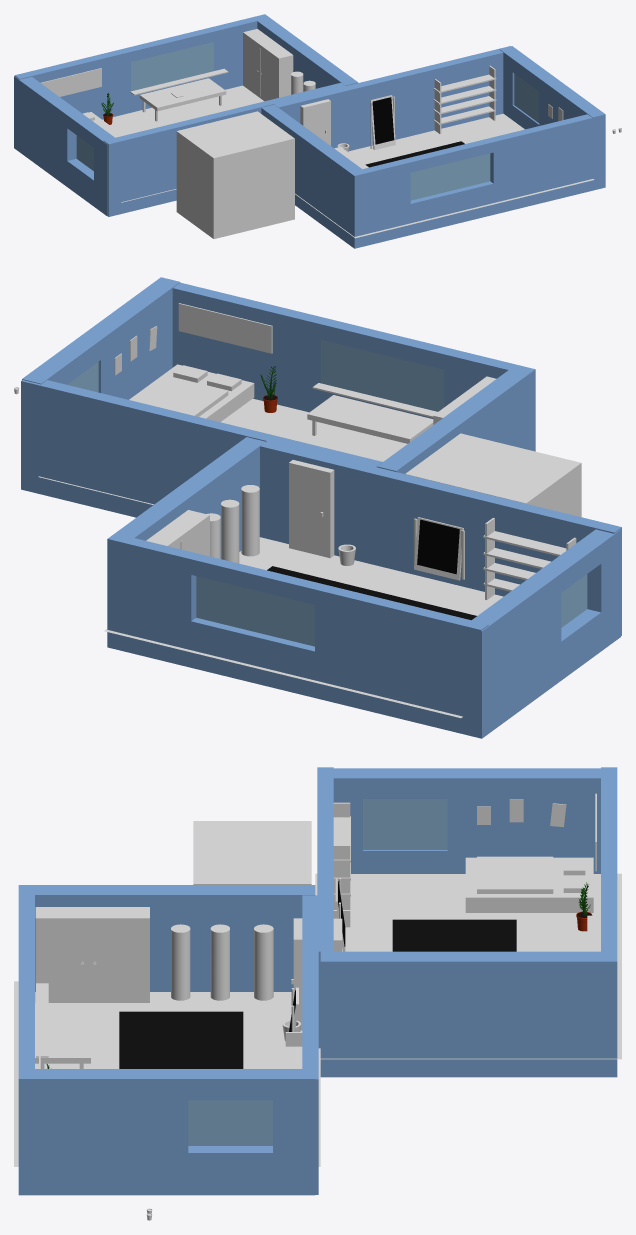
File: Room Obj.FBX
3 views of the same model, one above another, from view 1: azimuth 30°, elevation 25°; view 2: azimuth 150°, elevation 25°; view 3: azimuth 270°, elevation 25° (orthographic). The views are drawn at different scales.
Visible parts, largest first — view 1: Box002, Box068, Box004, Box036, Box035, Box001, Box037, Box003, Plane001, Box045, Plane002, Box044 (+16 smaller); view 2: Box035, Box004, Box037, Box036, Box002, Box003, Box068, Box034, Plane002, Box001, Box011, Box044 (+15 smaller); view 3: Box034, Box003, Box036, Box001, Plane002, Box012, Plane001, Box068, Box019, Box043, Box052, Box010 (+14 smaller).
Part boxes in pixels (x1=…): Box002: x1=363, y1=114, x2=604, y2=245; Box068: x1=176, y1=111, x2=294, y2=238; Box004: x1=273, y1=46, x2=510, y2=151; Box036: x1=14, y1=76, x2=114, y2=216; Box035: x1=14, y1=17, x2=257, y2=119; Box001: x1=261, y1=104, x2=367, y2=248; Box037: x1=103, y1=83, x2=345, y2=216; Box003: x1=499, y1=46, x2=605, y2=187; Plane001: x1=295, y1=113, x2=594, y2=238; Box045: x1=243, y1=29, x2=293, y2=101; Plane002: x1=102, y1=85, x2=263, y2=202; Box044: x1=131, y1=42, x2=213, y2=91; Box035: x1=126, y1=538, x2=488, y2=738; Box004: x1=21, y1=380, x2=382, y2=517; Box037: x1=260, y1=441, x2=621, y2=635; Box036: x1=462, y1=529, x2=620, y2=738; Box002: x1=172, y1=282, x2=515, y2=418; Box003: x1=22, y1=277, x2=180, y2=399; Box068: x1=405, y1=433, x2=581, y2=516; Box034: x1=107, y1=437, x2=265, y2=651; Plane002: x1=104, y1=537, x2=503, y2=718; Box001: x1=377, y1=364, x2=535, y2=473; Box011: x1=320, y1=340, x2=444, y2=411; Box044: x1=196, y1=576, x2=314, y2=646; Box034: x1=320, y1=951, x2=617, y2=1077; Box003: x1=18, y1=1069, x2=315, y2=1195; Box036: x1=333, y1=768, x2=600, y2=873; Box001: x1=18, y1=885, x2=315, y2=991; Plane002: x1=315, y1=873, x2=621, y2=1059; Box012: x1=35, y1=907, x2=149, y2=1002; Plane001: x1=14, y1=981, x2=320, y2=1166; Box068: x1=193, y1=821, x2=311, y2=884; Box019: x1=119, y1=1011, x2=243, y2=1068; Box043: x1=363, y1=799, x2=447, y2=849; Box052: x1=392, y1=919, x2=516, y2=951; Box010: x1=188, y1=1100, x2=272, y2=1145.
Bounding box in the file's own units: 6594 × 1135 × 4743.
